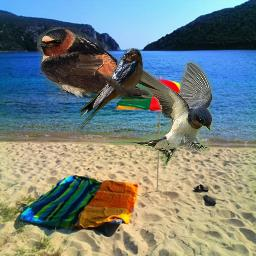Swallow: (109, 54, 213, 164), (37, 27, 162, 101), (77, 48, 143, 132)
